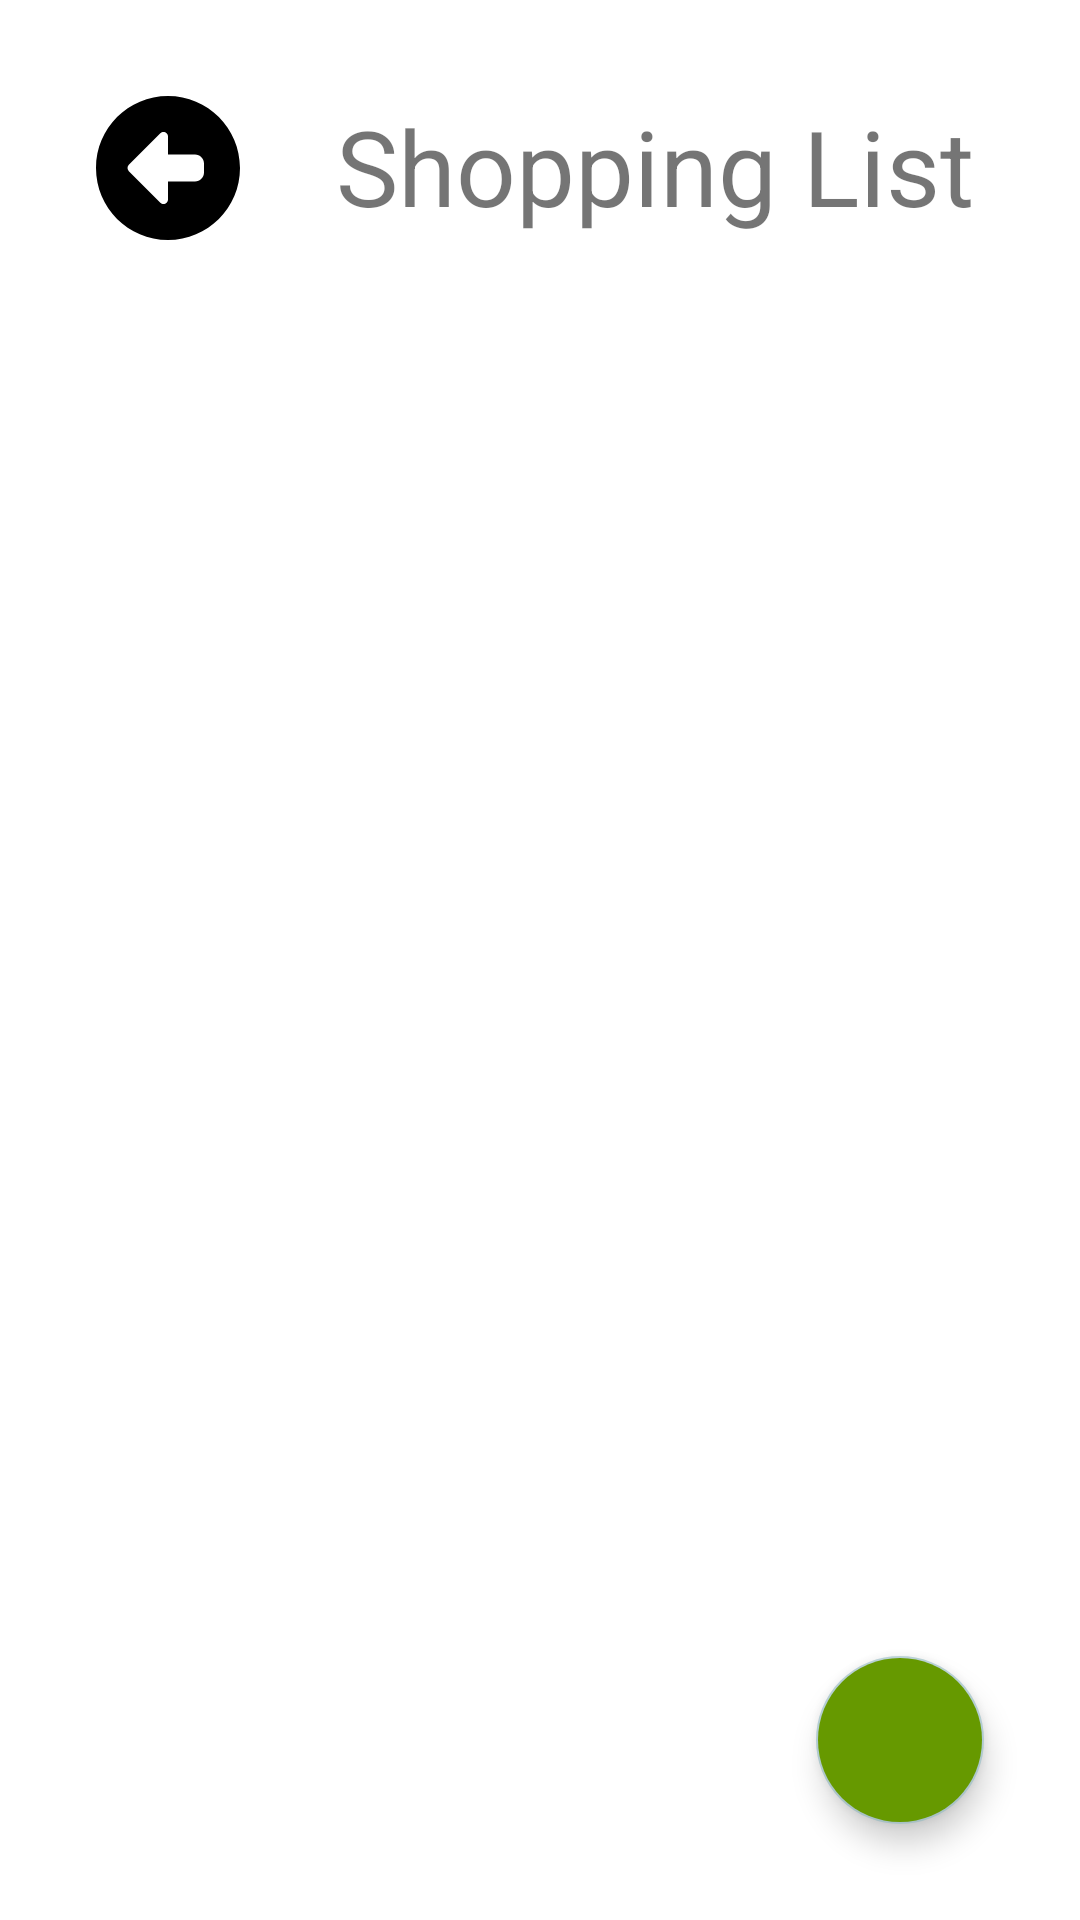

Where icons sit on this 1080px×1920px app screen, as [left=x1, top=y1, right=x2, bottom=y2]:
back: [left=96, top=96, right=240, bottom=240]
